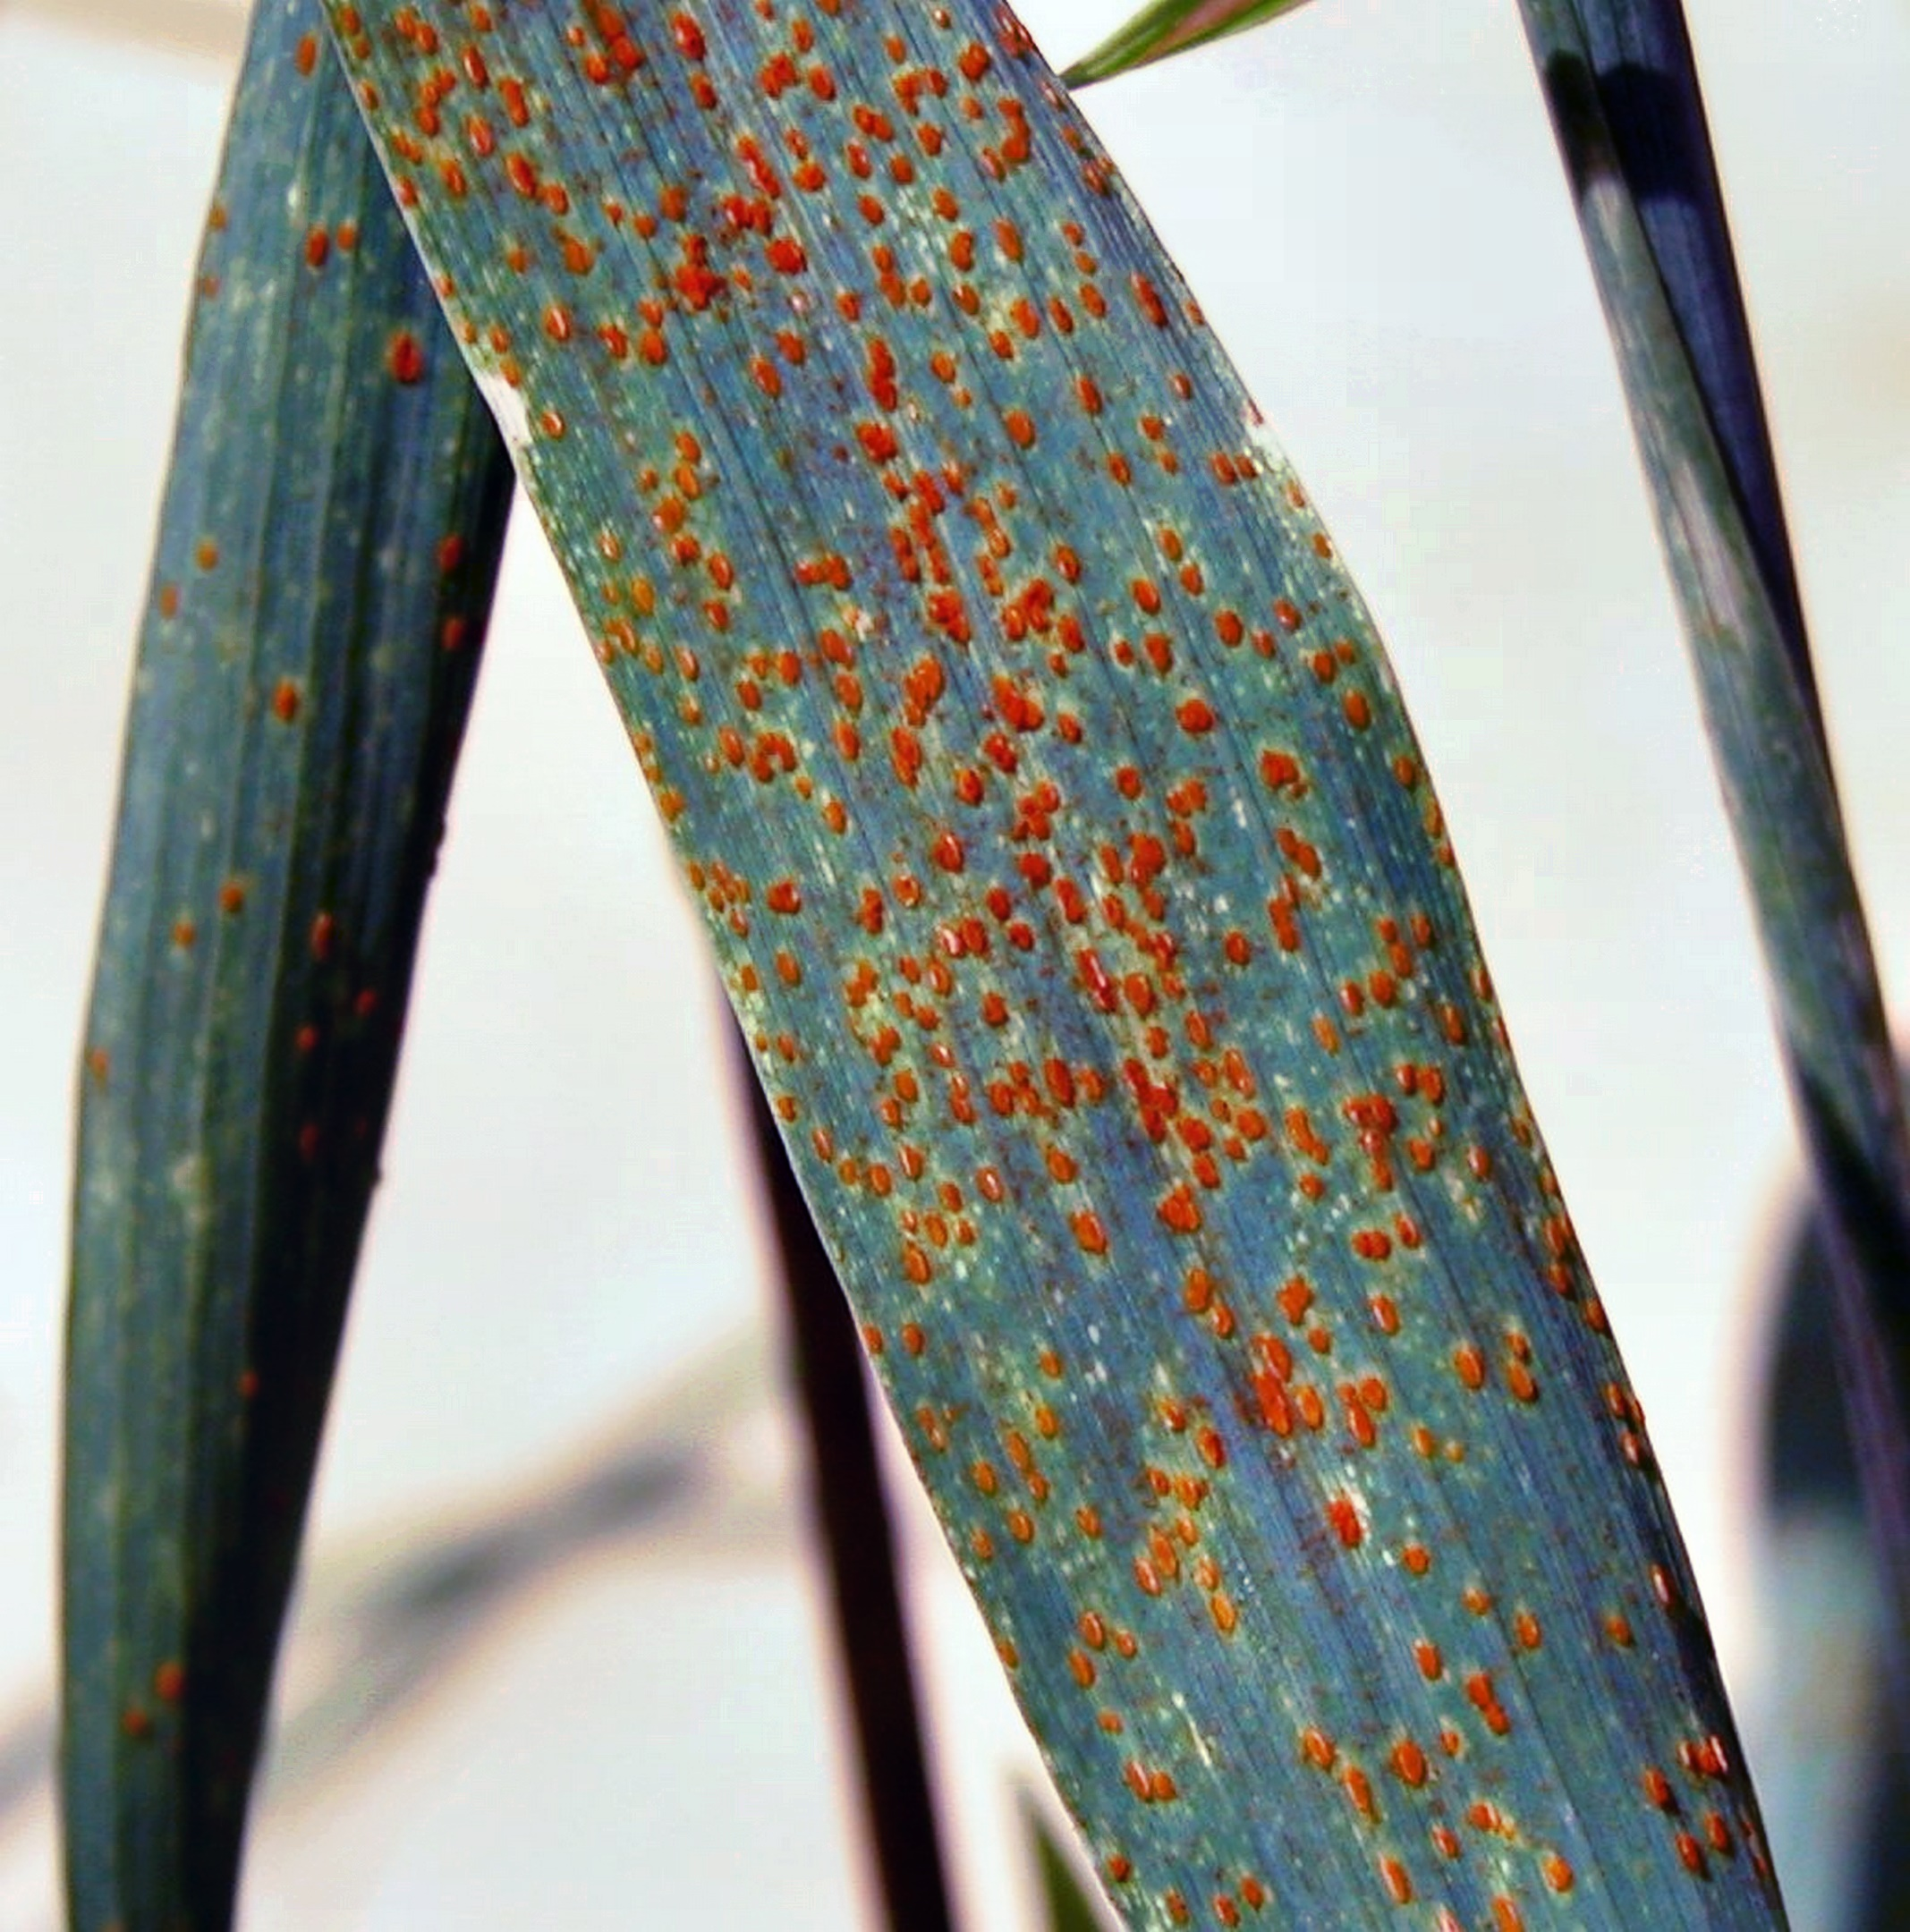Leaf Rust: (540, 206, 1823, 1733)
